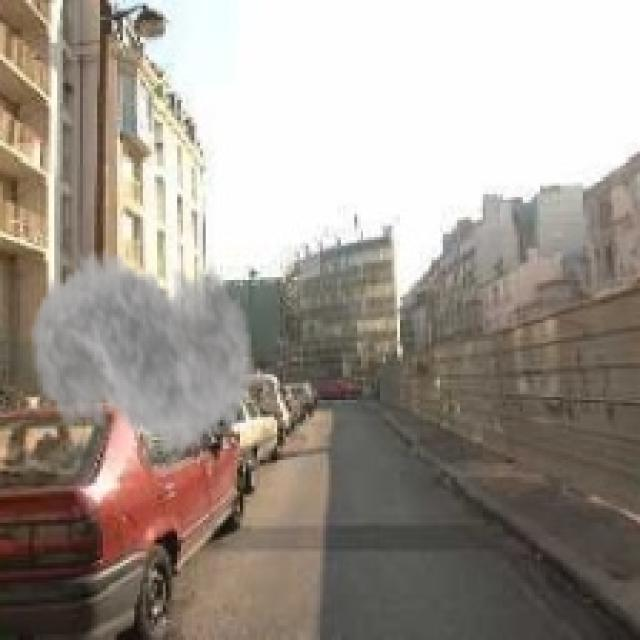Smoke: (29, 223, 258, 474)
